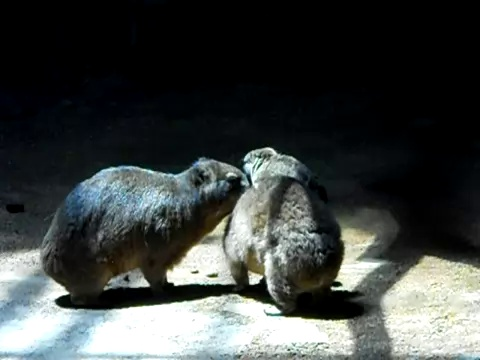Rock Hyrex: (40, 157, 253, 301), (223, 146, 345, 322)
